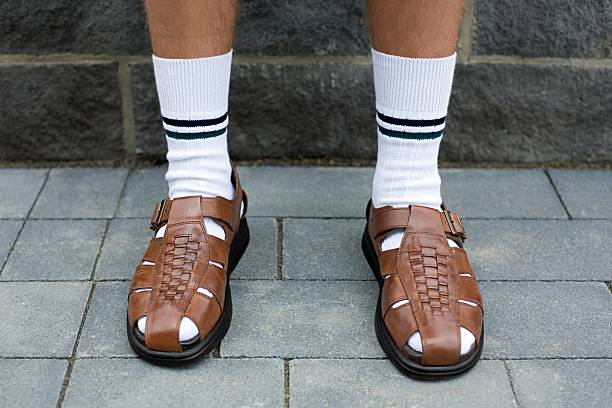Footwear: (120, 163, 253, 370)
